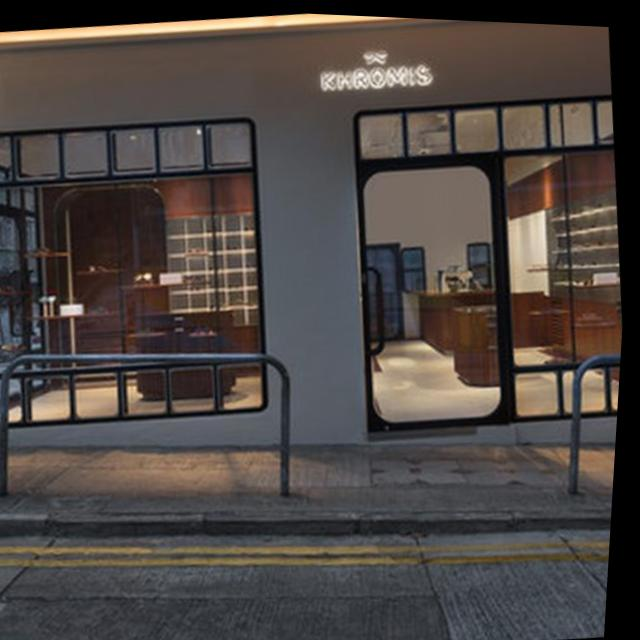building: (0, 0, 640, 511)
